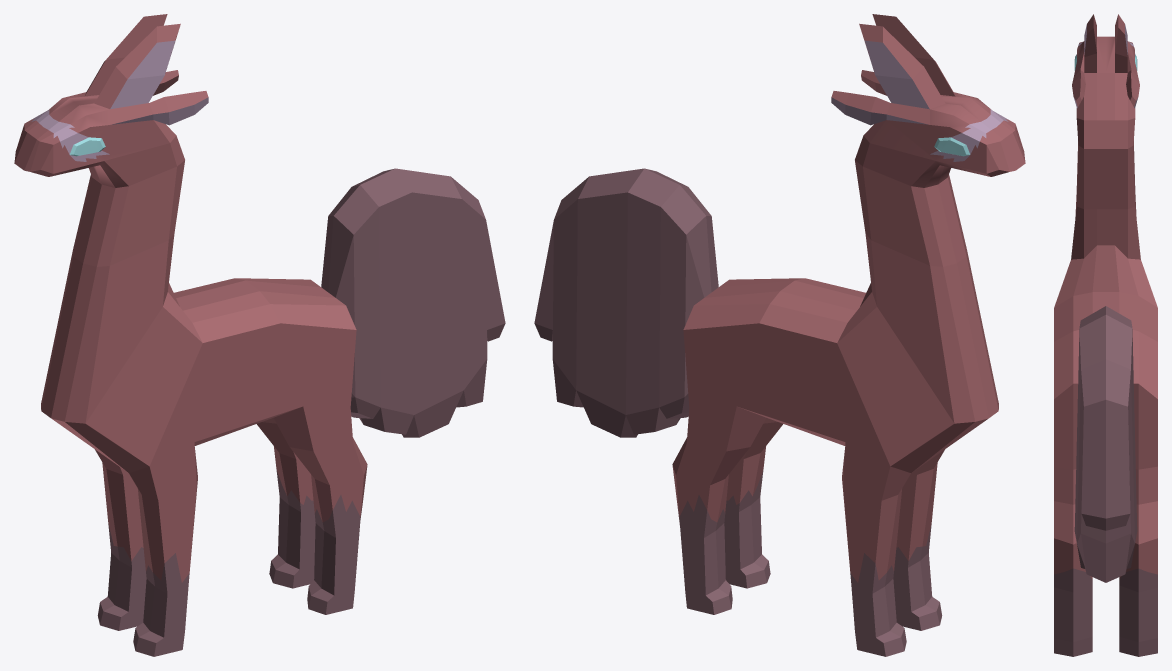
File: Amaranth.fbx
The picture shows the model from 3 angles, left to right: view 1: azimuth 30°, elevation 25°; view 2: azimuth 150°, elevation 25°; view 3: azimuth 270°, elevation 25°; orthographic projection. The views are drawn at different scales.
Visible parts, largest first — view 1: Plane; view 2: Plane; view 3: Plane.
Boxes of the visible parts, <box> form: Plane: <box>14,14,505,656</box>; Plane: <box>534,14,1025,656</box>; Plane: <box>1054,14,1157,656</box>.
Bounding box in the file's own units: 395 × 481 × 80.55.
